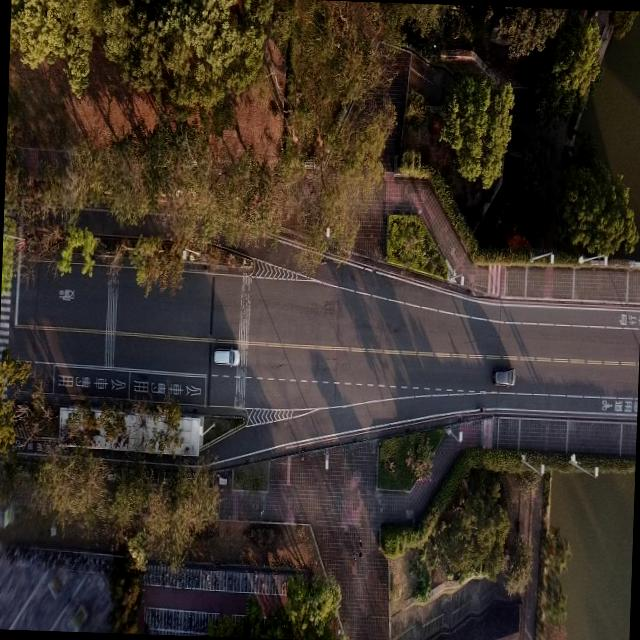car: (490, 362, 516, 388), (210, 346, 239, 367)
